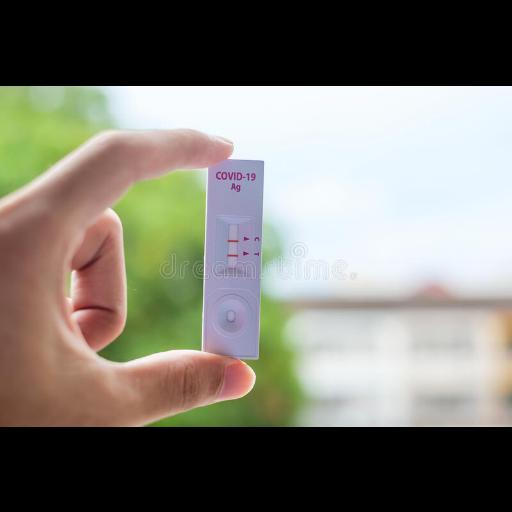Pos: (200, 158, 266, 358)
